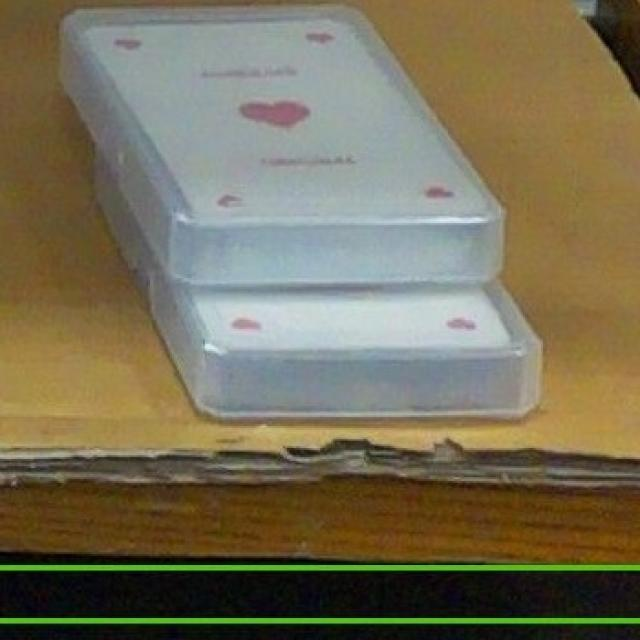Jasskarte: (62, 4, 505, 287), (97, 157, 539, 419)
